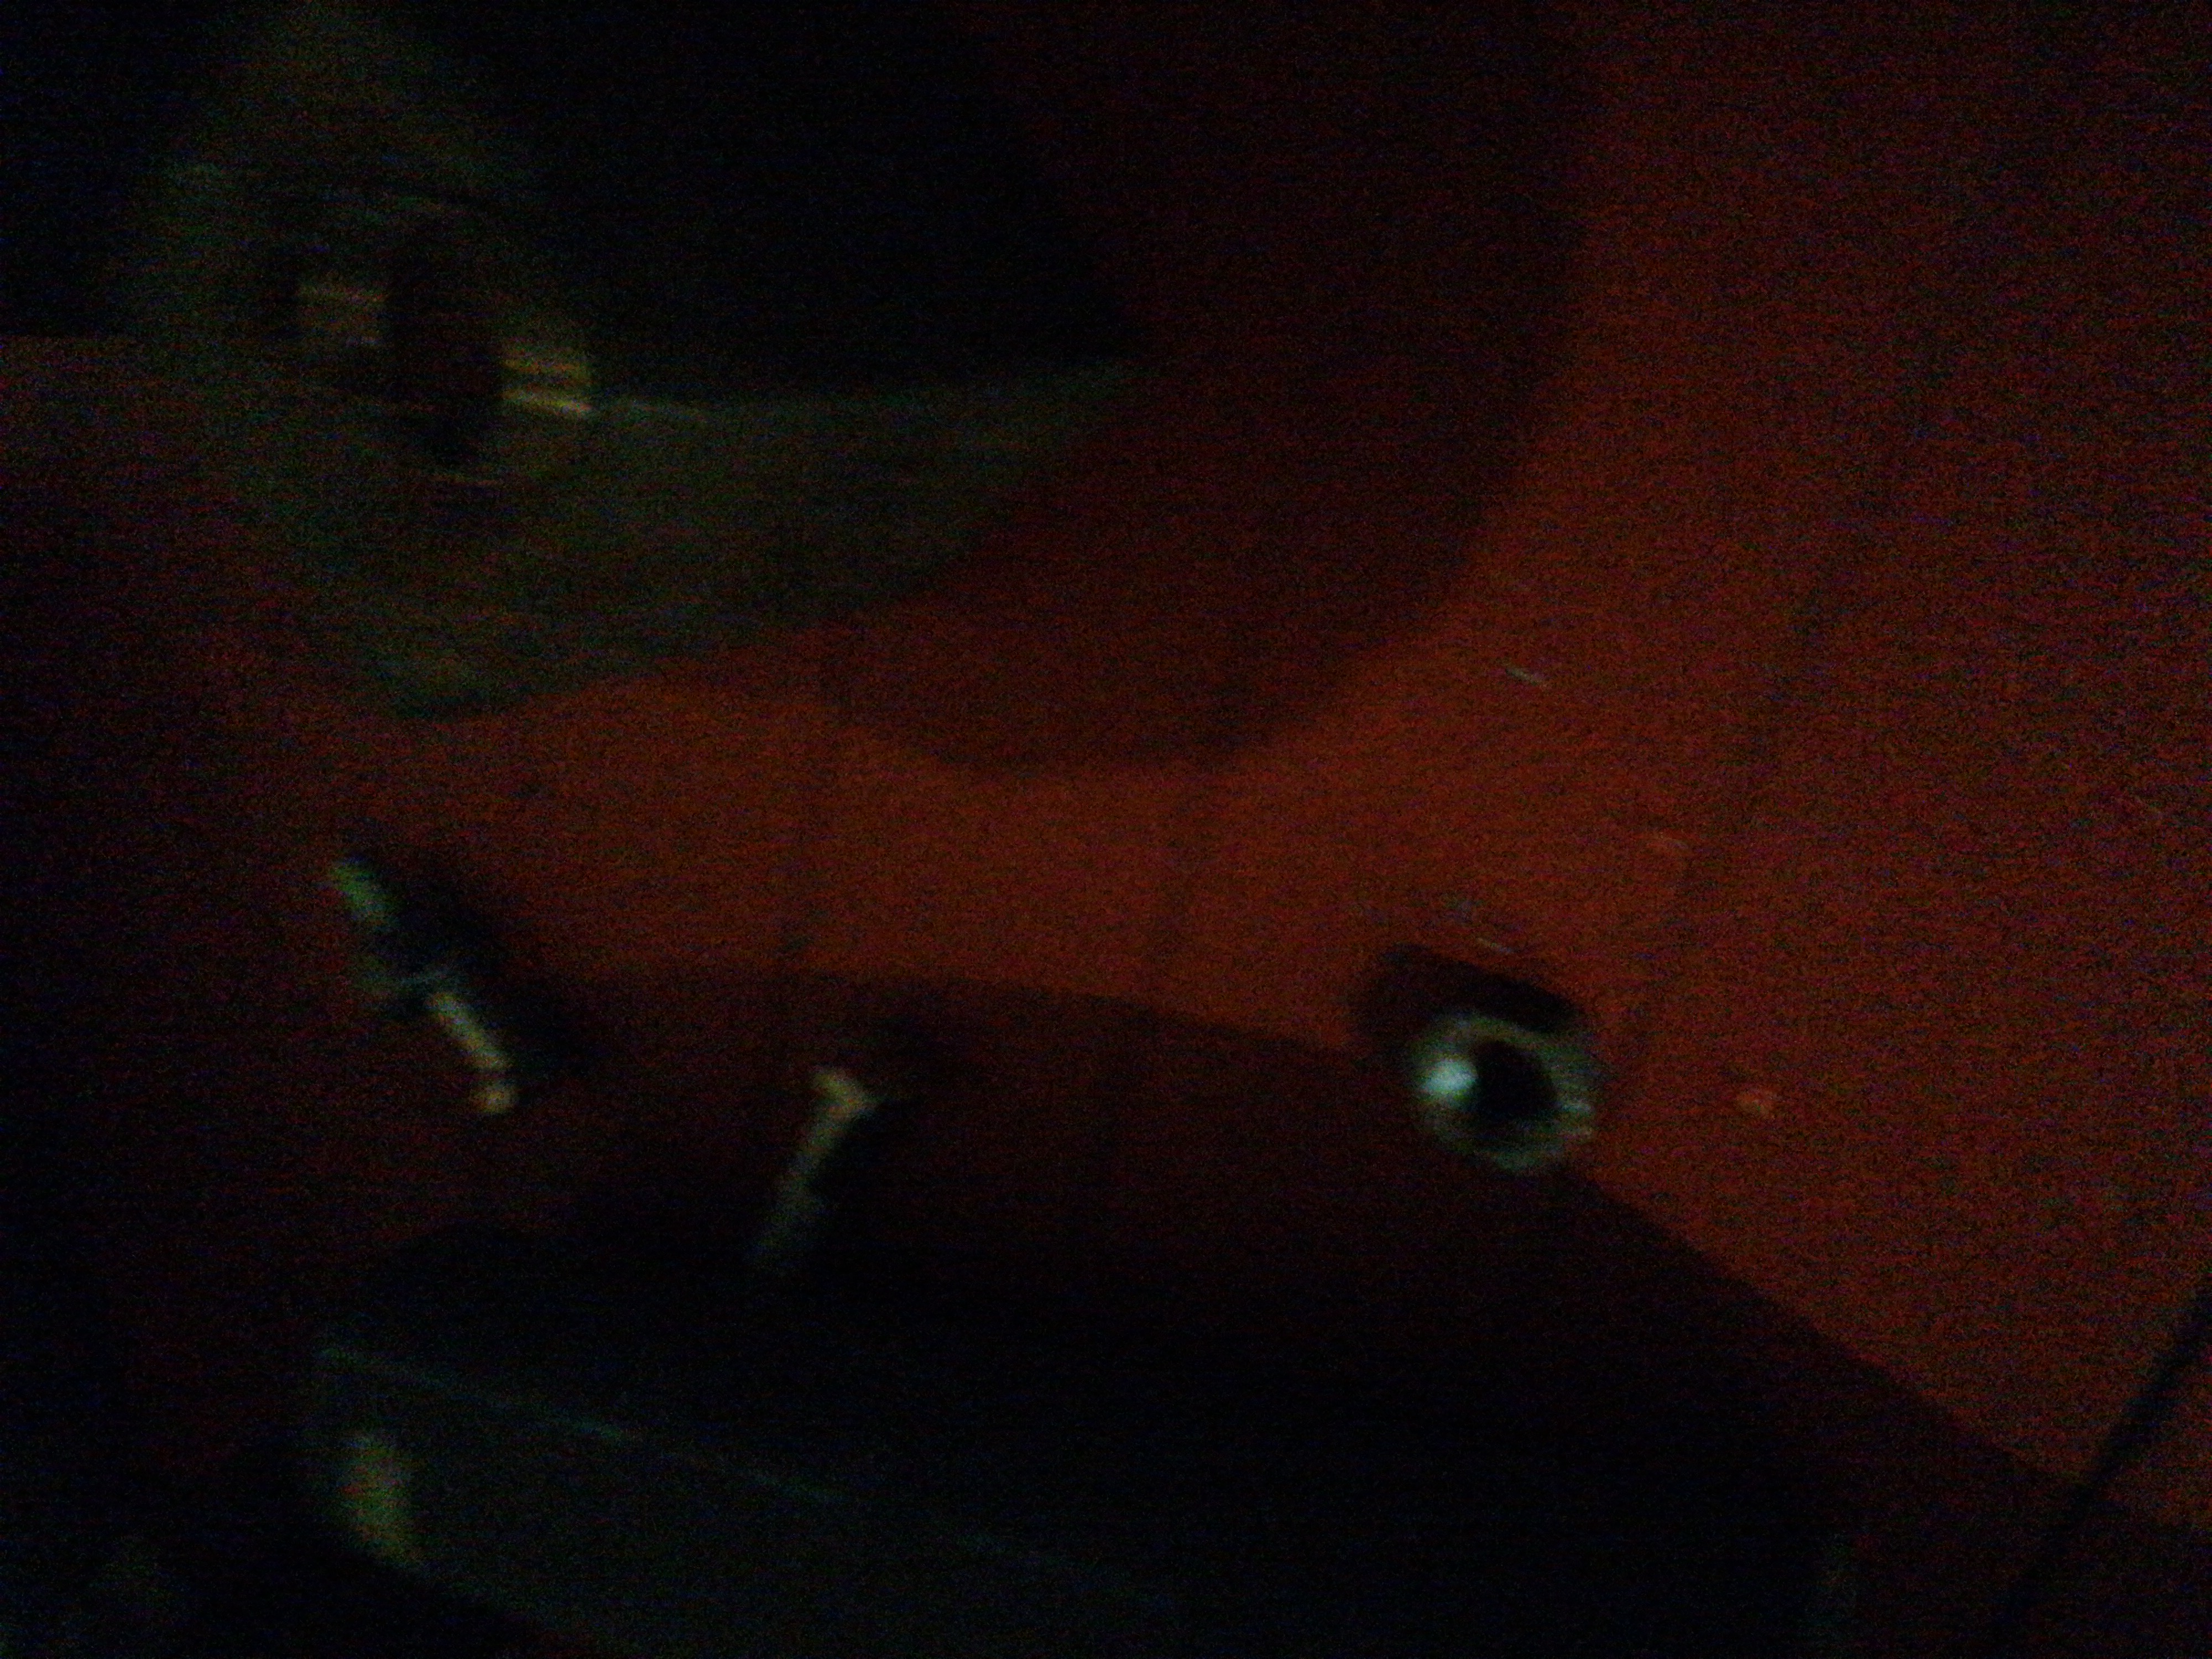bolt: (329, 850, 554, 1122), (737, 1044, 913, 1291)
lead_block: (125, 3, 1153, 714)
nut: (1393, 993, 1613, 1185), (343, 894, 477, 1014)
pipe: (280, 1225, 1855, 1659)
